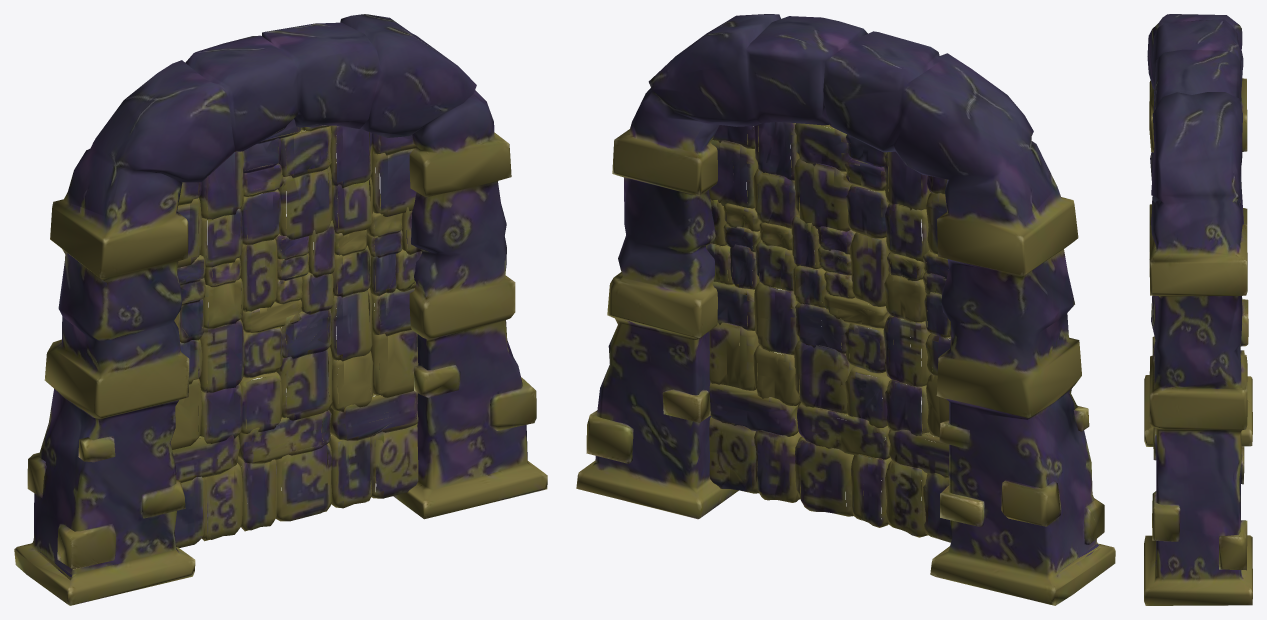
Rendered from breakablelWallWhole_LowPoly.glb.
The picture shows the model from 3 angles, left to right: view 1: azimuth 30°, elevation 25°; view 2: azimuth 150°, elevation 25°; view 3: azimuth 270°, elevation 25°; orthographic projection. The views are drawn at different scales.
Visible parts, largest first — view 1: Mesh_0.005; view 2: Mesh_0.005; view 3: Mesh_0.005.
Boxes of the visible parts, x1=… form: Mesh_0.005: x1=14, y1=14, x2=547, y2=605; Mesh_0.005: x1=576, y1=14, x2=1115, y2=605; Mesh_0.005: x1=1144, y1=14, x2=1252, y2=605.
Bounding box in the file's own units: 2.11 × 2.04 × 0.4468.
Materials: 2 (2 with a texture image).
